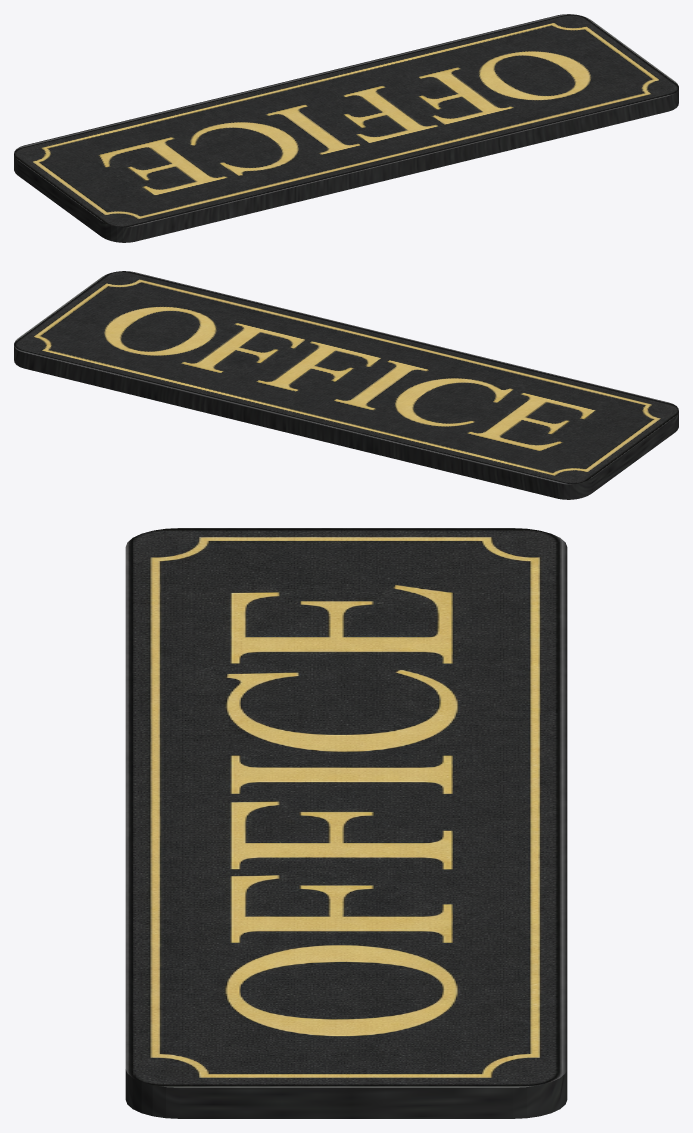
The model's file is office sign.fbx.
3 renders of one model, top to bottom at view 1: azimuth 30°, elevation 25°; view 2: azimuth 150°, elevation 25°; view 3: azimuth 270°, elevation 25°, orthographic. The views are drawn at different scales.
Visible parts, largest first — view 1: Cube; view 2: Cube; view 3: Cube.
Part boxes in pixels (box(x1,y1,x2,y2)): Cube: box(14, 14, 678, 242); Cube: box(14, 271, 678, 499); Cube: box(125, 528, 567, 1118).
Size of the model in its own units: 1.16 by 0.03 by 0.3857.
1 material, 1 textured.
